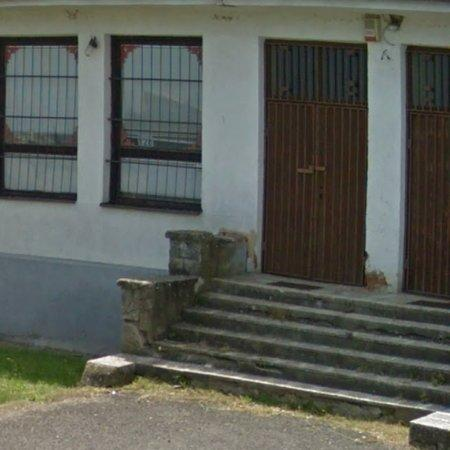stairs: (132, 275, 450, 423)
